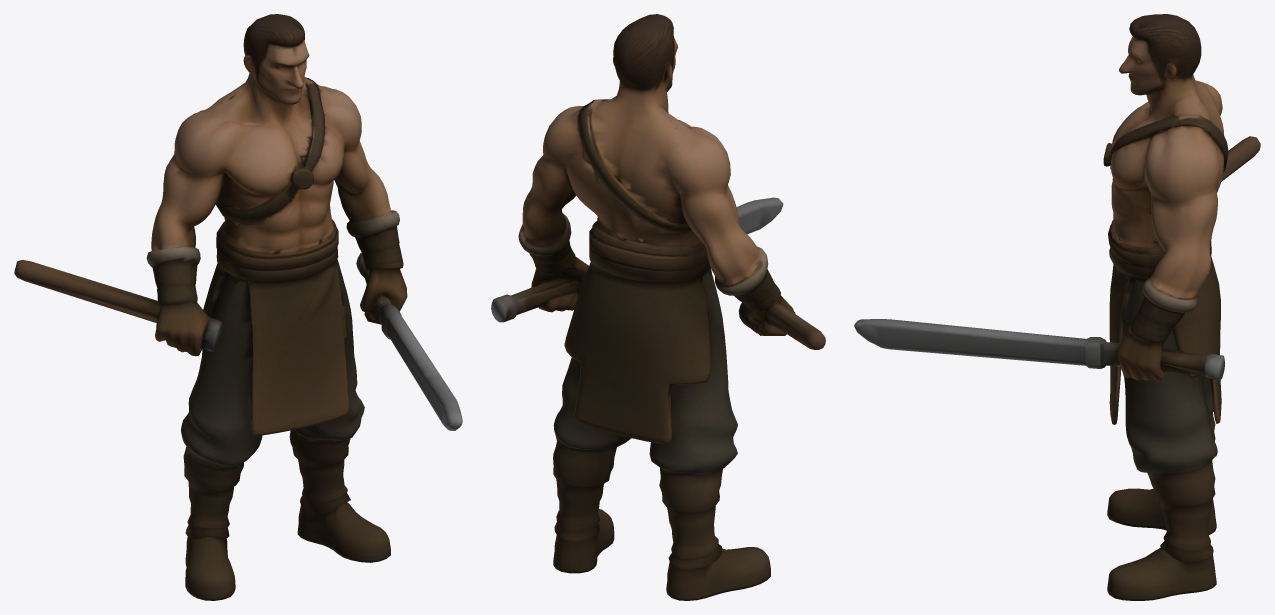
File: Industrial__anvil_realistic_style_4c900f59_v4.cluster.glb
3 renders of one model, left to right at view 1: azimuth 30°, elevation 25°; view 2: azimuth 150°, elevation 25°; view 3: azimuth 270°, elevation 25°, orthographic.
Parts seen in each view (by area): view 1: texture_pbr_20250901; view 2: texture_pbr_20250901; view 3: texture_pbr_20250901.
Part boxes in pixels (x1,y1,x2,y2): texture_pbr_20250901: (14, 14, 462, 600); texture_pbr_20250901: (491, 14, 825, 600); texture_pbr_20250901: (854, 14, 1260, 600).
Bounding box in the file's own units: 1.28 × 1.9 × 1.3.
1 material, 1 textured.
